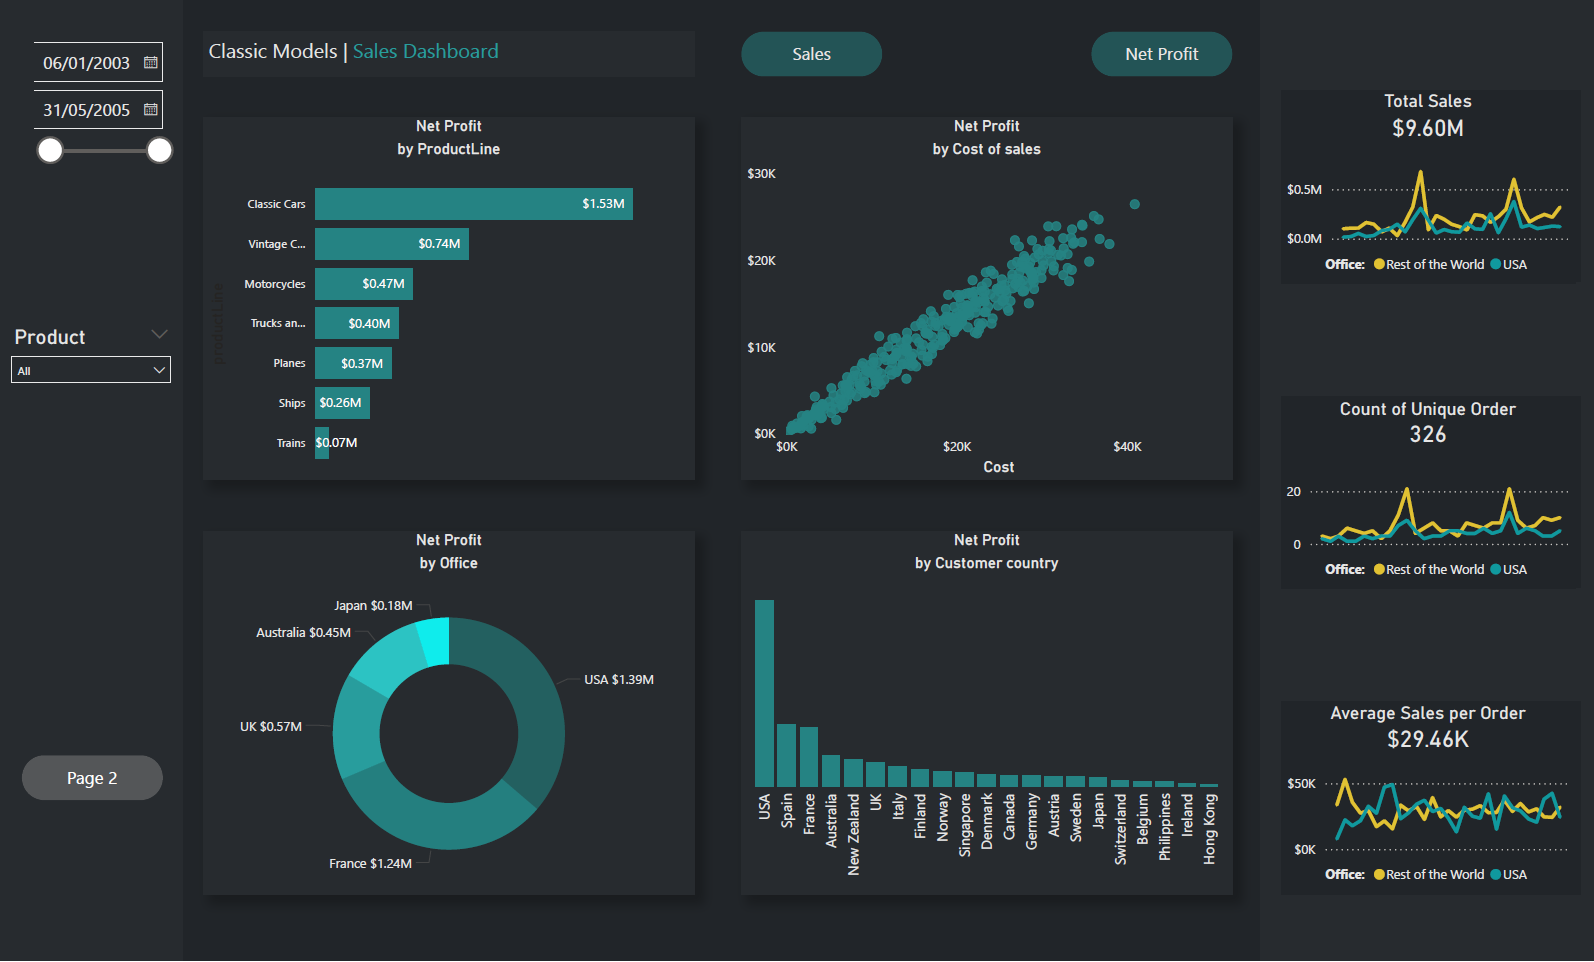

Layout of this report page (visuals, bound fields, positions):
{"tool":"powerbi","page":{"name":"Sales Overview - Page 1","canvas":[1500,900],"ordinal":0},"visuals":[{"type":"shape","box":[0,0,170,900],"z":0},{"type":"shape","box":[1180,0,319.4,899.7],"z":1000},{"type":"shape","box":[1199.5,85.2,280.4,179.2],"z":2000},{"type":"shape","box":[1199.5,371.7,280.4,179.2],"z":3000},{"type":"shape","box":[1199.5,658.3,280.4,179.2],"z":4000},{"type":"card","title":"Total Sales","fields":{"Values":["Sum(classicmodels sales_data_for_power_bi.sales_value)"]},"box":[1199.5,85.2,275,49.7],"z":5000},{"type":"card","title":"Count of Unique Order","fields":{"Values":["Count(classicmodels sales_data_for_power_bi.orderNumber)"]},"box":[1199.5,372.6,275,49.7],"z":6000},{"type":"card","title":"Average Sales per Order","fields":{"Values":["classicmodels sales_data_for_power_bi.Average Salesvalue per order"]},"box":[1199.5,658.3,275,49.7],"z":7000},{"type":"lineChart","fields":{"Y":["Sum(classicmodels sales_data_for_power_bi.sales_value)"],"Category":["classicmodels sales_data_for_power_bi.orderdate.Variation.Date Hierarchy.Year","classicmodels sales_data_for_power_bi.orderdate.Variation.Date Hierarchy.Quarter","classicmodels sales_data_for_power_bi.orderdate.Variation.Date Hierarchy.Month"],"Series":["classicmodels sales_data_for_power_bi.Office Grouped"]},"box":[1200,136,276,130],"z":8000},{"type":"lineChart","fields":{"Category":["classicmodels sales_data_for_power_bi.orderdate.Variation.Date Hierarchy.Year","classicmodels sales_data_for_power_bi.orderdate.Variation.Date Hierarchy.Quarter","classicmodels sales_data_for_power_bi.orderdate.Variation.Date Hierarchy.Month"],"Series":["classicmodels sales_data_for_power_bi.Office Grouped"],"Y":["Count(classicmodels sales_data_for_power_bi.orderNumber)"]},"box":[1200,422,276,130],"z":9000},{"type":"lineChart","fields":{"Category":["classicmodels sales_data_for_power_bi.orderdate.Variation.Date Hierarchy.Year","classicmodels sales_data_for_power_bi.orderdate.Variation.Date Hierarchy.Quarter","classicmodels sales_data_for_power_bi.orderdate.Variation.Date Hierarchy.Month"],"Series":["classicmodels sales_data_for_power_bi.Office Grouped"],"Y":["classicmodels sales_data_for_power_bi.Average Salesvalue per order"]},"box":[1200,708,276,130],"z":10000},{"type":"barChart","fields":{"Category":["classicmodels sales_data_for_power_bi.productLine"],"Y":["Table.Selected Metric"]},"box":[190,110,460,340],"z":11000},{"type":"actionButton","box":[694,30,132,42],"z":13000},{"type":"actionButton","box":[1022,30,132,42],"z":14000},{"type":"scatterChart","fields":{"Y":["Table.Selected Metric"],"X":["Sum(classicmodels sales_data_for_power_bi.cost_of_sales)"],"Category":["classicmodels sales_data_for_power_bi.orderNumber"]},"box":[694,110,460,340],"z":15000},{"type":"donutChart","fields":{"Y":["Table.Selected Metric"],"Category":["classicmodels sales_data_for_power_bi.office_country"]},"box":[190,498,460,340],"z":16000},{"type":"columnChart","fields":{"Y":["Table.Selected Metric"],"Category":["classicmodels sales_data_for_power_bi.customer_country"]},"box":[694,498,460,340],"z":17000},{"type":"textbox","box":[190,30,460,42],"z":18000},{"type":"actionButton","box":[20,708,132,42],"z":19000},{"type":"slicer","fields":{"Values":["classicmodels sales_data_for_power_bi.orderdate"]},"box":[18,30,152,144],"z":19001},{"type":"slicer","fields":{"Values":["classicmodels sales_data_for_power_bi.productName"]},"box":[0,300,170,188],"z":19002}]}

Visuals, with their boxes on the page's 1500x900 design canvas (x1, y1, x2, y2). These are canvas units, not pixel positions in the 1594x962 screenshot, which may show the page scaled, cropped or inside an application window:
shape: detection(0, 0, 170, 900)
shape: detection(1180, 0, 1499, 900)
shape: detection(1200, 85, 1480, 264)
shape: detection(1200, 372, 1480, 551)
shape: detection(1200, 658, 1480, 838)
"Total Sales" card: detection(1200, 85, 1474, 135)
"Count of Unique Order" card: detection(1200, 373, 1474, 422)
"Average Sales per Order" card: detection(1200, 658, 1474, 708)
lineChart - Sum(classicmodels sales_data_for_power_bi.sales_value) x classicmodels sales_data_for_power_bi.orderdate.Variation.Date Hierarchy.Year: detection(1200, 136, 1476, 266)
lineChart - classicmodels sales_data_for_power_bi.orderdate.Variation.Date Hierarchy.Year x classicmodels sales_data_for_power_bi.orderdate.Variation.Date Hierarchy.Quarter: detection(1200, 422, 1476, 552)
lineChart - classicmodels sales_data_for_power_bi.orderdate.Variation.Date Hierarchy.Year x classicmodels sales_data_for_power_bi.orderdate.Variation.Date Hierarchy.Quarter: detection(1200, 708, 1476, 838)
barChart - classicmodels sales_data_for_power_bi.productLine x Table.Selected Metric: detection(190, 110, 650, 450)
actionButton: detection(694, 30, 826, 72)
actionButton: detection(1022, 30, 1154, 72)
scatterChart - Table.Selected Metric x Sum(classicmodels sales_data_for_power_bi.cost_of_sales): detection(694, 110, 1154, 450)
donutChart - Table.Selected Metric x classicmodels sales_data_for_power_bi.office_country: detection(190, 498, 650, 838)
columnChart - Table.Selected Metric x classicmodels sales_data_for_power_bi.customer_country: detection(694, 498, 1154, 838)
textbox: detection(190, 30, 650, 72)
actionButton: detection(20, 708, 152, 750)
slicer - classicmodels sales_data_for_power_bi.orderdate: detection(18, 30, 170, 174)
slicer - classicmodels sales_data_for_power_bi.productName: detection(0, 300, 170, 488)
